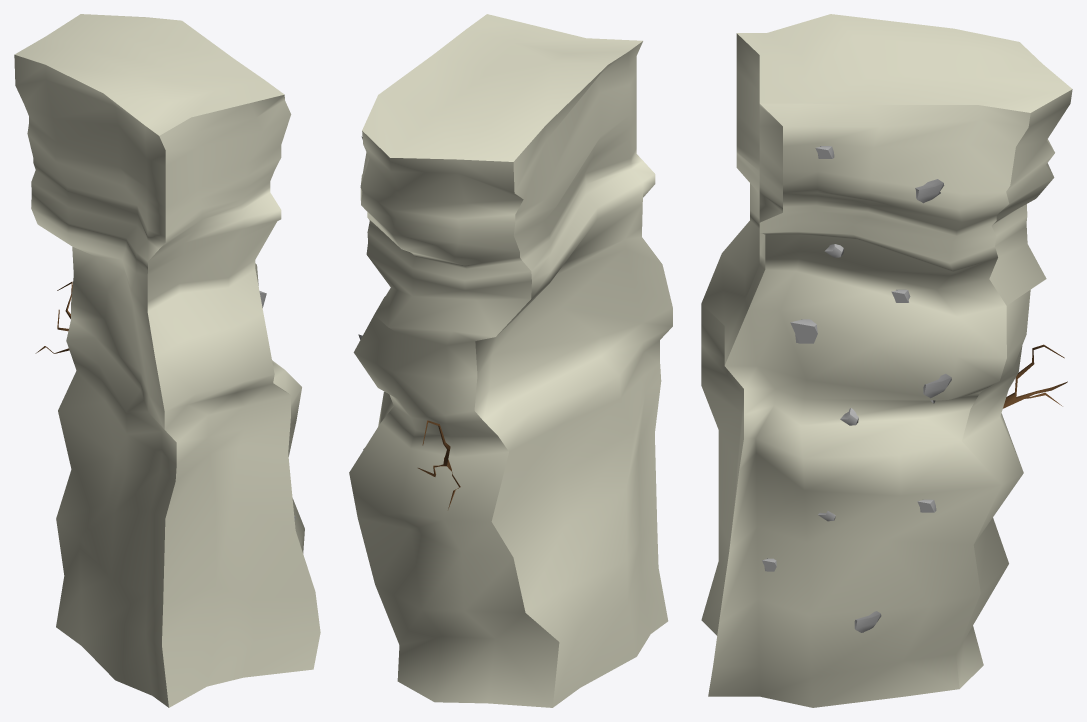
Rendered from Clifs1_scenario.fbx.
3 renders of one model, left to right at view 1: azimuth 30°, elevation 25°; view 2: azimuth 150°, elevation 25°; view 3: azimuth 270°, elevation 25°, orthographic. The views are drawn at different scales.
Parts seen in each view (by area): view 1: pCube179; view 2: pCube179; view 3: pCube179.
Boxes of the visible parts, box(x1,y1,x2,y2) form: pCube179: box(14, 14, 320, 707); pCube179: box(349, 14, 672, 707); pCube179: box(701, 14, 1072, 707).
Size of the model in its own units: 24.75 by 67.69 by 37.7.
